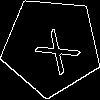X: (26, 21, 82, 77)
